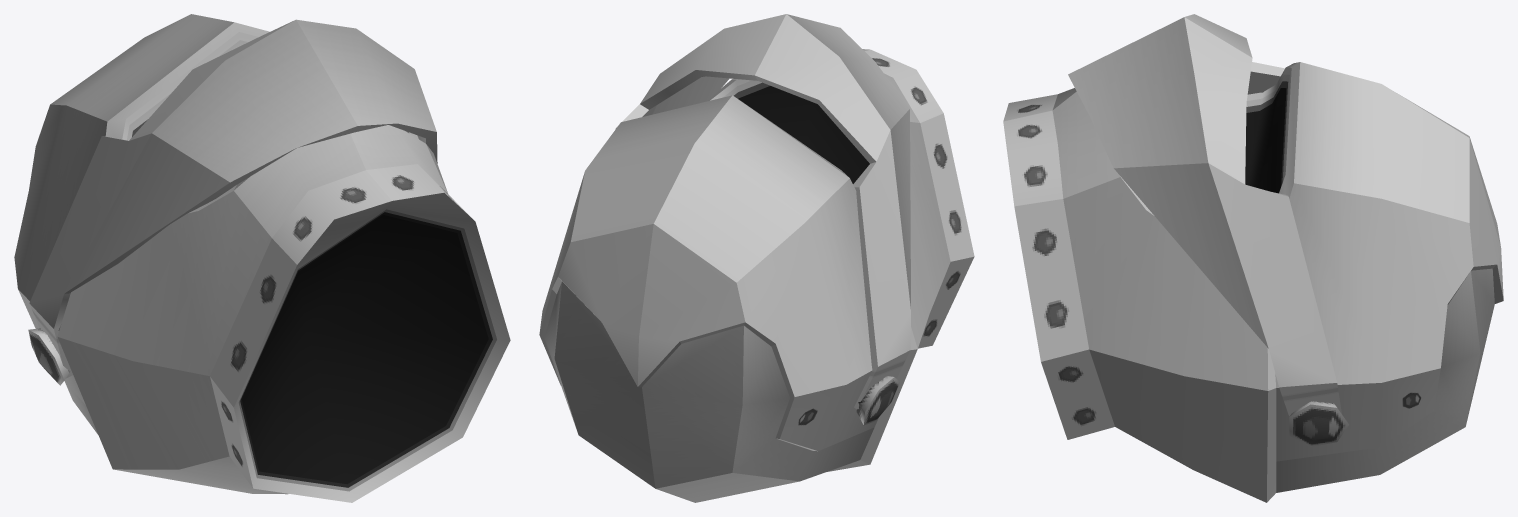
The model's file is ArmetHelmet_M.glb.
3 renders of one model, left to right at view 1: azimuth 30°, elevation 25°; view 2: azimuth 150°, elevation 25°; view 3: azimuth 270°, elevation 25°, orthographic. The views are drawn at different scales.
Parts seen in each view (by area): view 1: ArmetHelmet_M, ArmetHelmet_M_Visor; view 2: ArmetHelmet_M, ArmetHelmet_M_Visor; view 3: ArmetHelmet_M, ArmetHelmet_M_Visor.
Part boxes in pixels (x1,y1,x2,y2): ArmetHelmet_M: (14, 14, 510, 502); ArmetHelmet_M_Visor: (28, 19, 437, 385); ArmetHelmet_M: (539, 49, 974, 502); ArmetHelmet_M_Visor: (615, 14, 910, 425); ArmetHelmet_M: (1003, 62, 1503, 502); ArmetHelmet_M_Visor: (1068, 14, 1348, 446).
Size of the model in its own units: 0.2878 by 0.3582 by 0.3409.
Materials: 1 (1 with a texture image).
